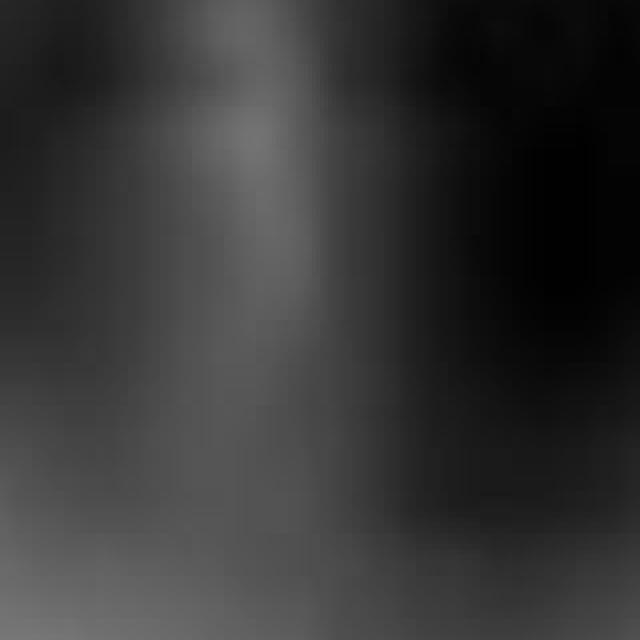person: (137, 1, 377, 486)
